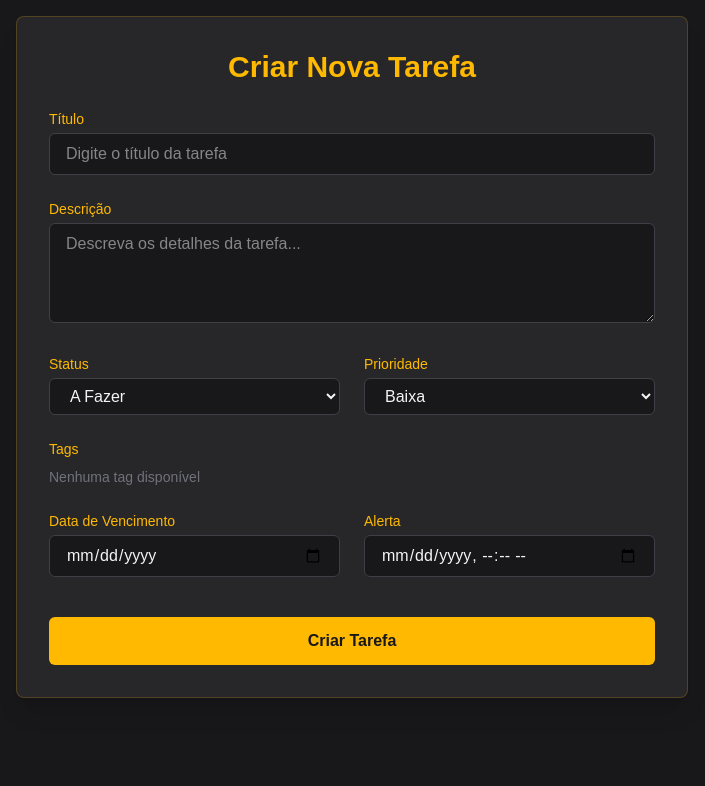
Test: RF7 - Criar Tarefa (Frontend) › deve exibir mensagem de erro quando a API retornar 400
Type "Tarefa Inválida" into the field labelled "Título" at (352, 154), box x1=49 y1=133 x2=655 y2=175
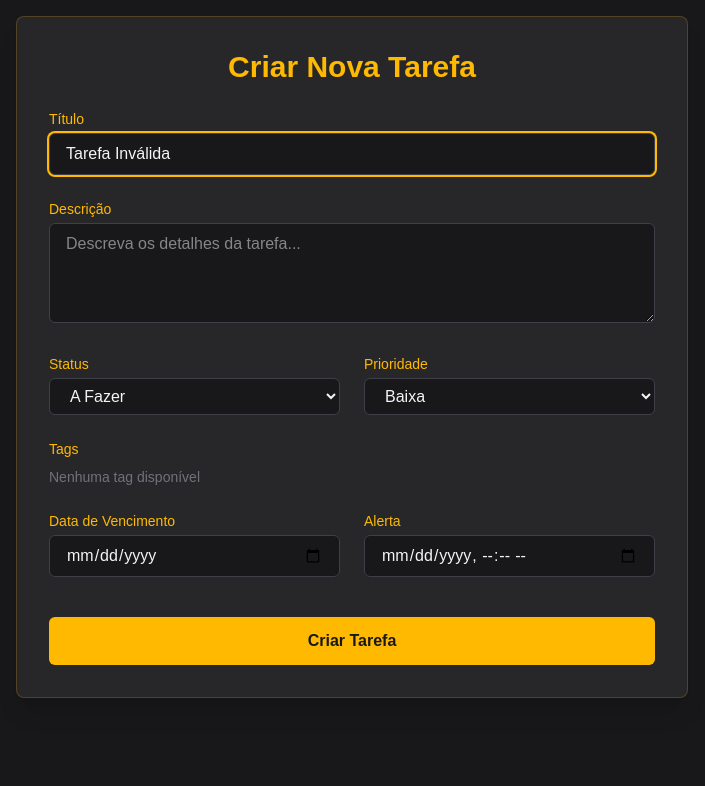
Select "A Fazer" in the dropdown labelled "Status" at (194, 396), box x1=49 y1=378 x2=340 y2=415
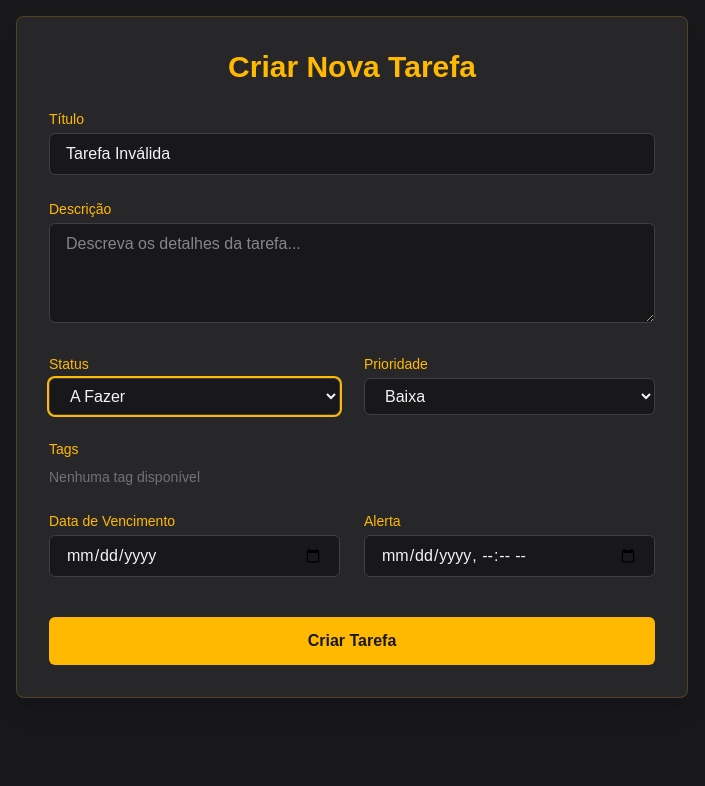
Select "Baixa" in the dropdown labelled "Prioridade" at (510, 396), box x1=364 y1=378 x2=655 y2=415
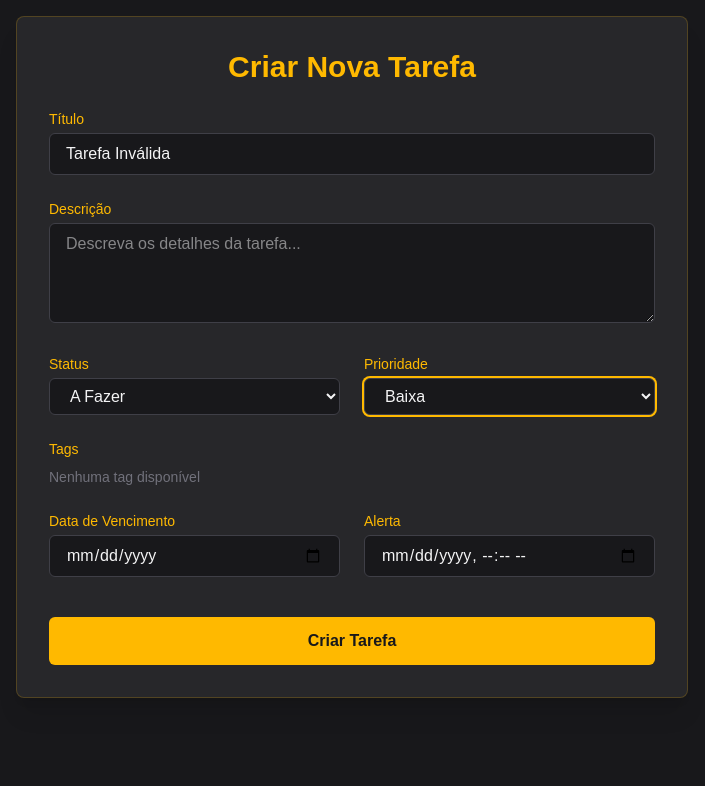
Click the button "Criar Tarefa" at (352, 641), box x1=49 y1=617 x2=655 y2=665
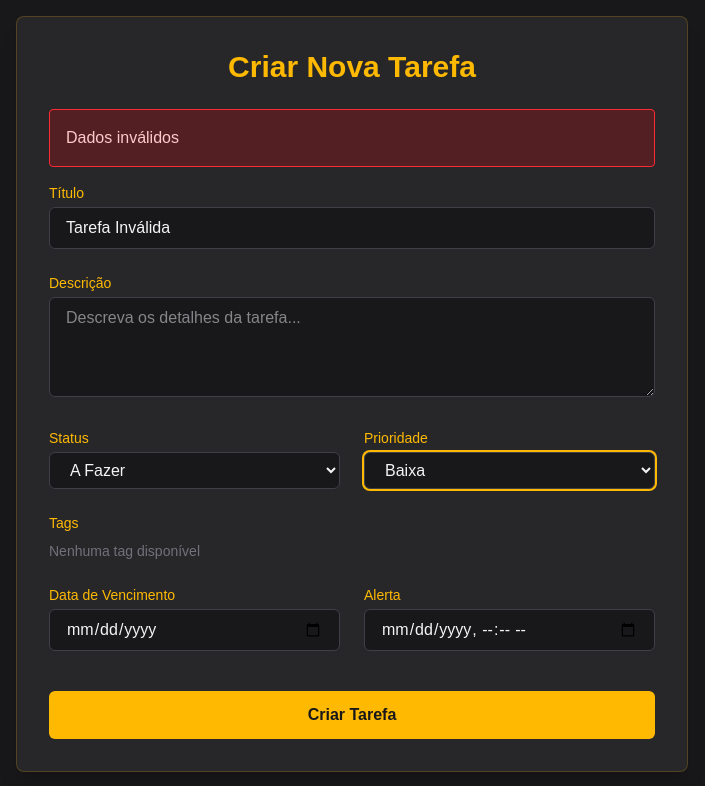
Now the text "Dados inválidos" is shown, box x1=49 y1=109 x2=655 y2=167
